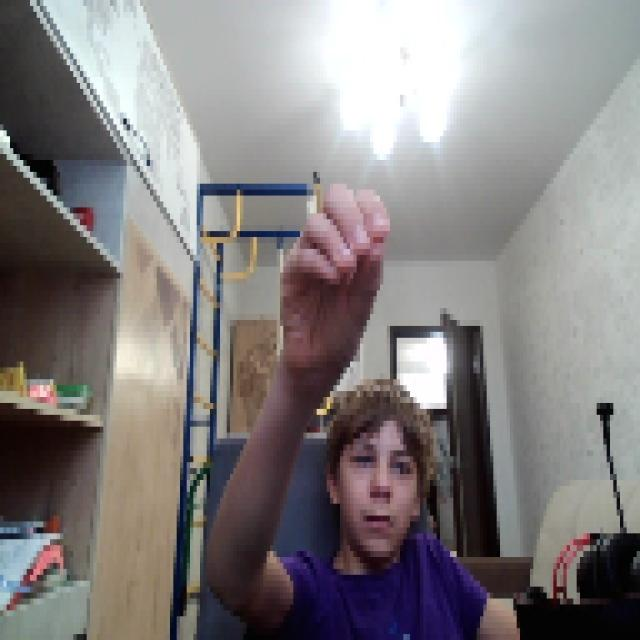left_click: (273, 172, 387, 385)
